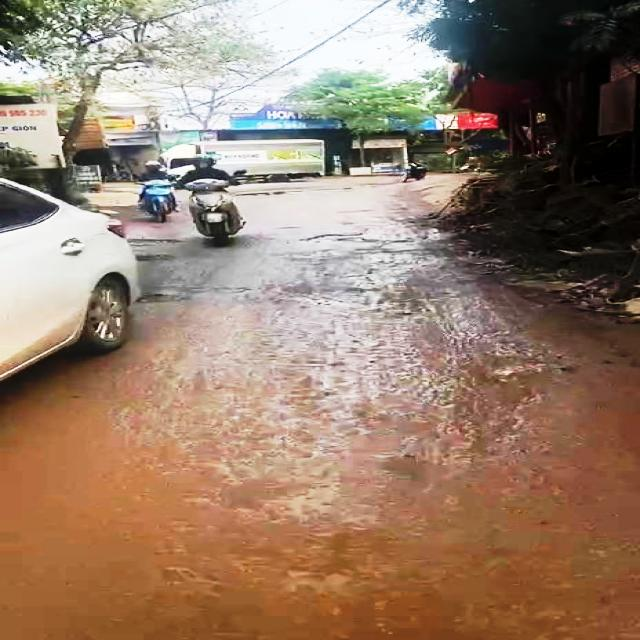pothole: (301, 232, 404, 245), (135, 289, 200, 306), (127, 236, 178, 248), (136, 253, 178, 263)
